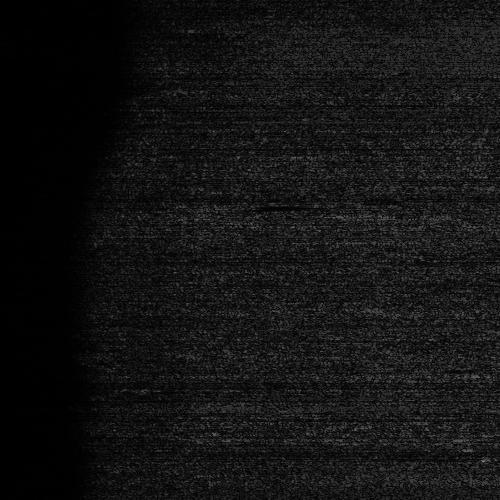rock: (188, 202, 251, 209)
shadow: (220, 202, 308, 209)
